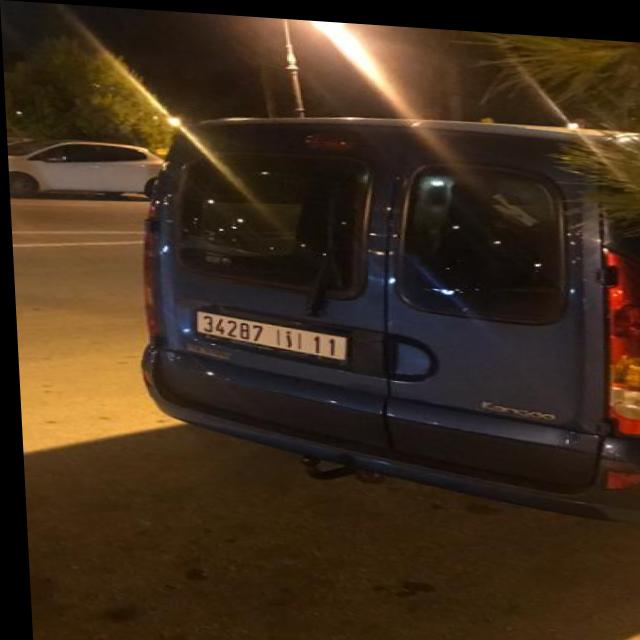License-Plate: (192, 309, 343, 355)
